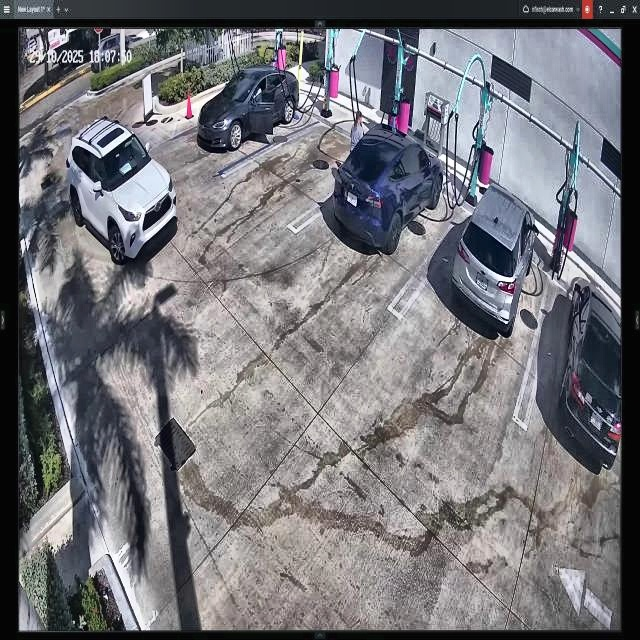Car: (64, 122, 176, 263), (333, 124, 439, 256), (456, 178, 534, 332), (207, 73, 295, 163)
